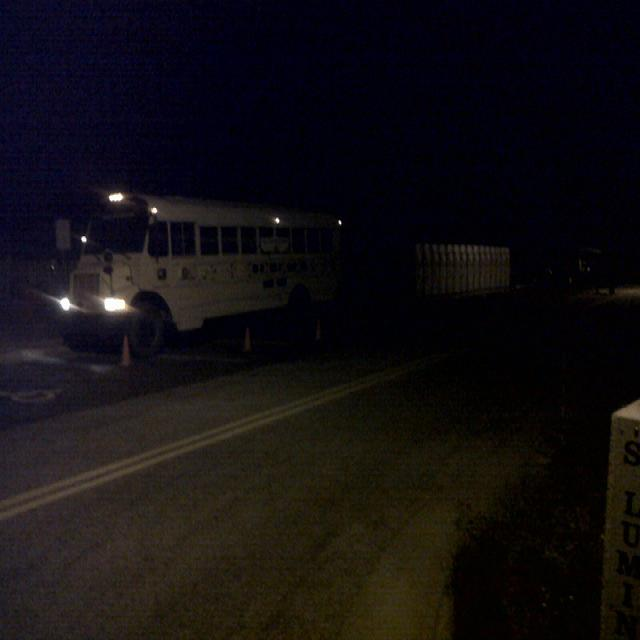Bus: (56, 188, 357, 361)
